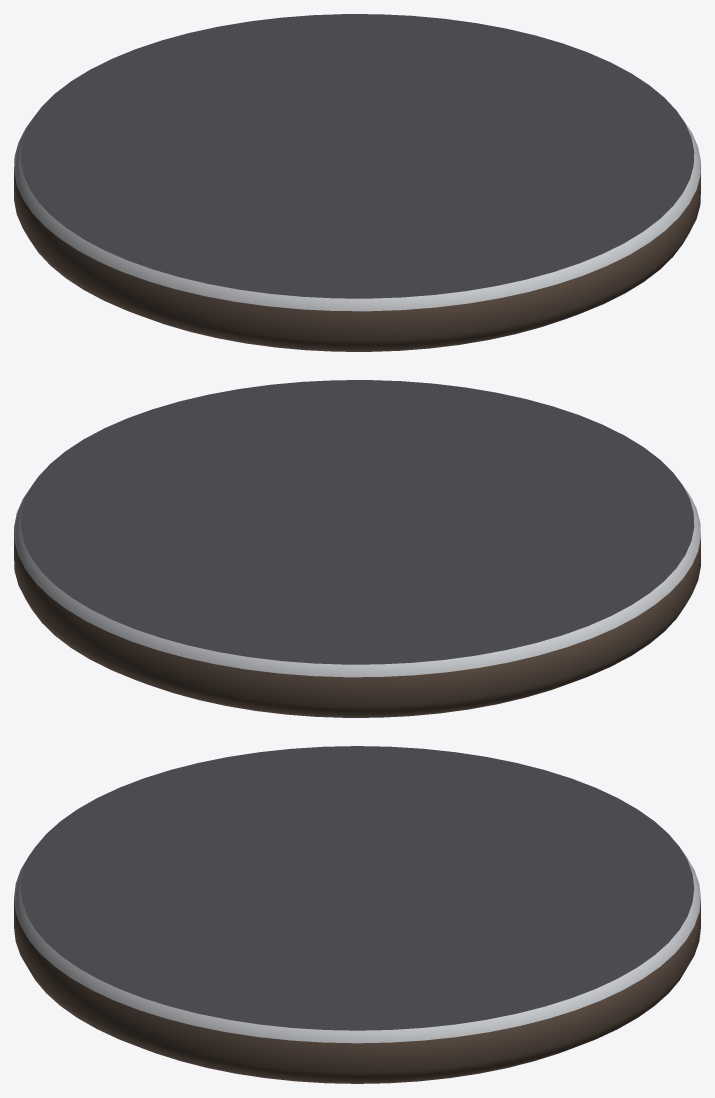
Rendered from heatshield_m.glb.
3 views of the same model, one above another, from view 1: azimuth 30°, elevation 25°; view 2: azimuth 150°, elevation 25°; view 3: azimuth 270°, elevation 25° (orthographic).
Visible parts, largest first — view 1: heatshield_m; view 2: heatshield_m; view 3: heatshield_m.
Boxes of the visible parts, x1,y1,x2,y2 form: heatshield_m: (14,14,700,351); heatshield_m: (14,380,700,717); heatshield_m: (14,746,700,1083).
Size of the model in its own units: 1.27 by 0.2 by 1.27.
